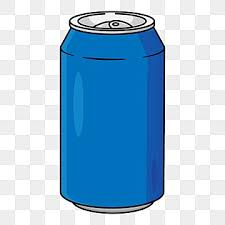can: (60, 11, 168, 215)
